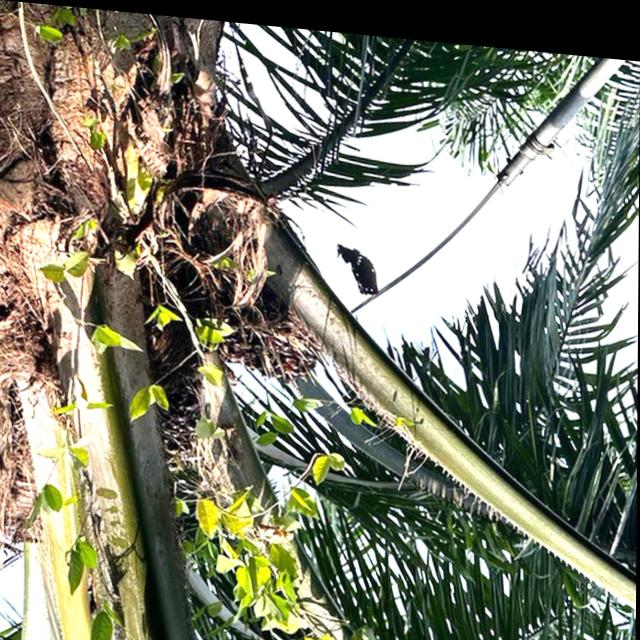almost: (195, 250, 326, 390)
